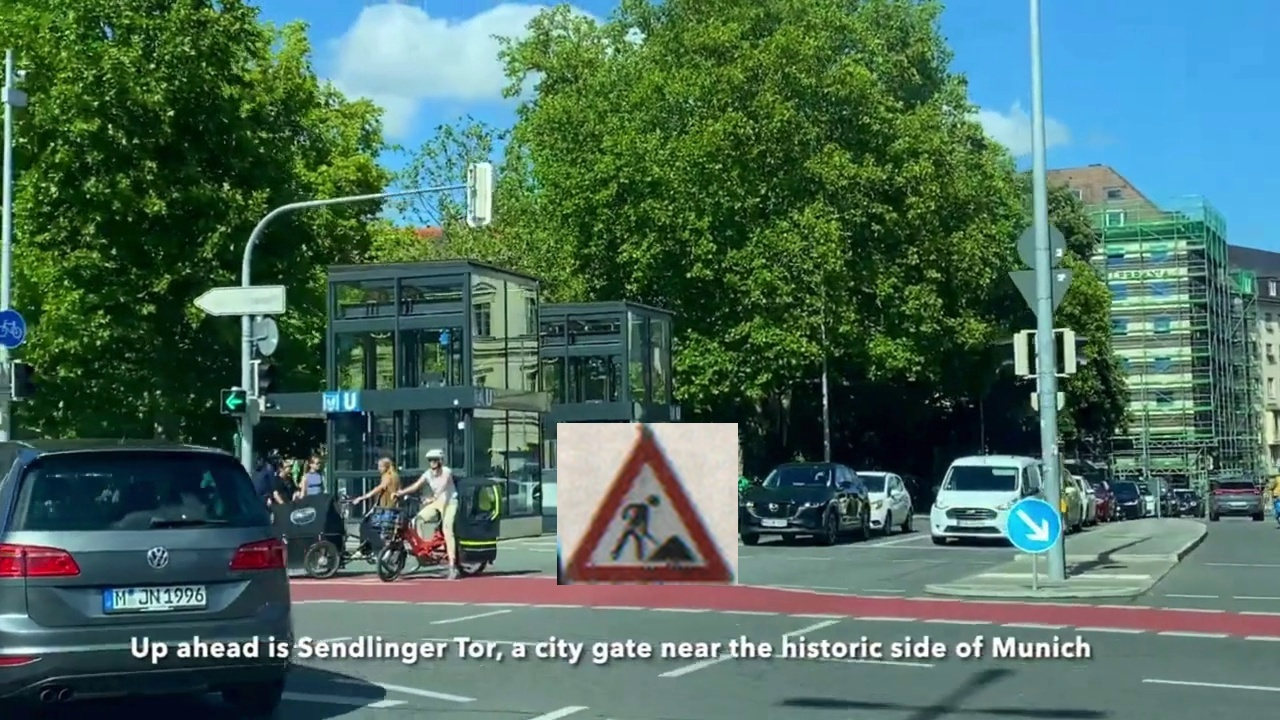Road work: (557, 423, 738, 585)
